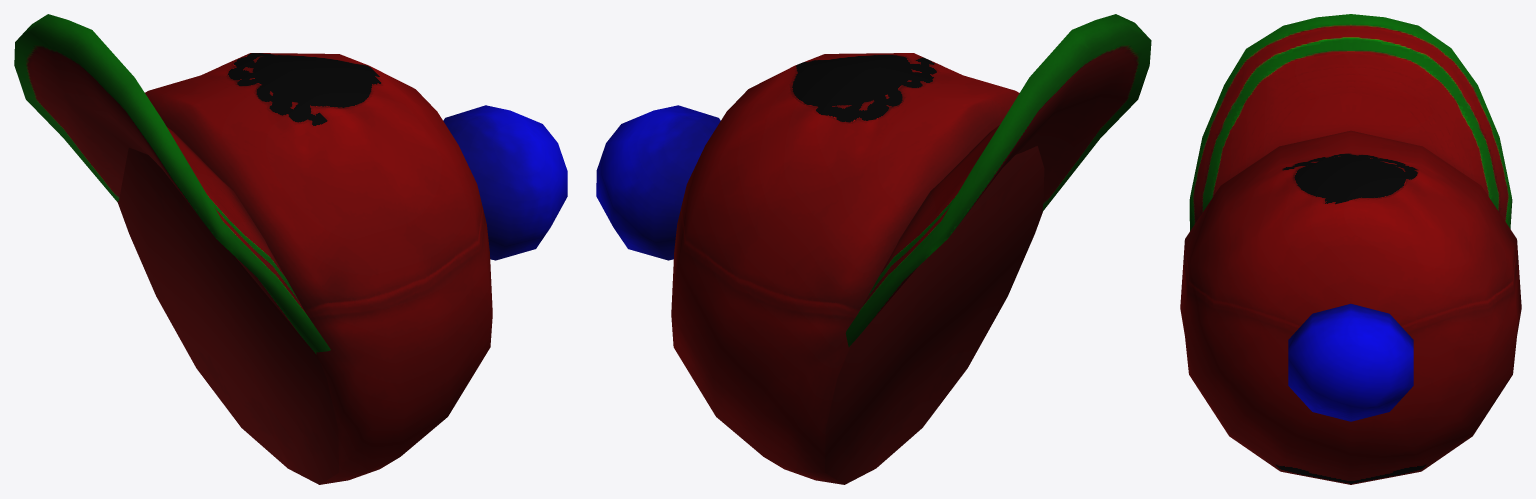
The picture shows the model from 3 angles, left to right: view 1: azimuth 30°, elevation 25°; view 2: azimuth 150°, elevation 25°; view 3: azimuth 270°, elevation 25°; orthographic projection. The views are drawn at different scales.
Visible parts, largest first — view 1: K1105; view 2: K1105; view 3: K1105.
Part boxes in pixels (bbox=[...]): K1105: bbox=[14, 14, 567, 484]; K1105: bbox=[596, 14, 1151, 484]; K1105: bbox=[1180, 14, 1521, 484].
Size of the model in its own units: 0.729 by 0.6995 by 0.5678.
